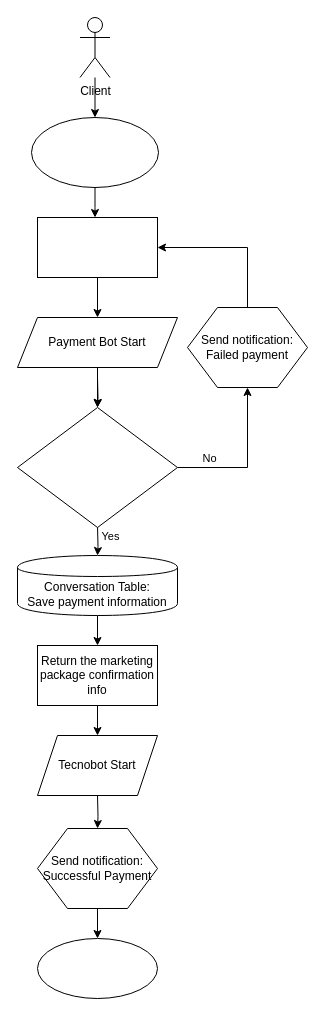
Image size: 325x1016. Some labels were removed from this diagram. The shapes that lost their labels are listed below. From the top down, each one's centre as x and y in pixels, then its label:
At point (94, 152): "Complete my payment".
At point (97, 247): "Ask for the transaction number".
At point (97, 467): "Does the transaction number match with the mail?".
At point (97, 968): "End Conversation".
